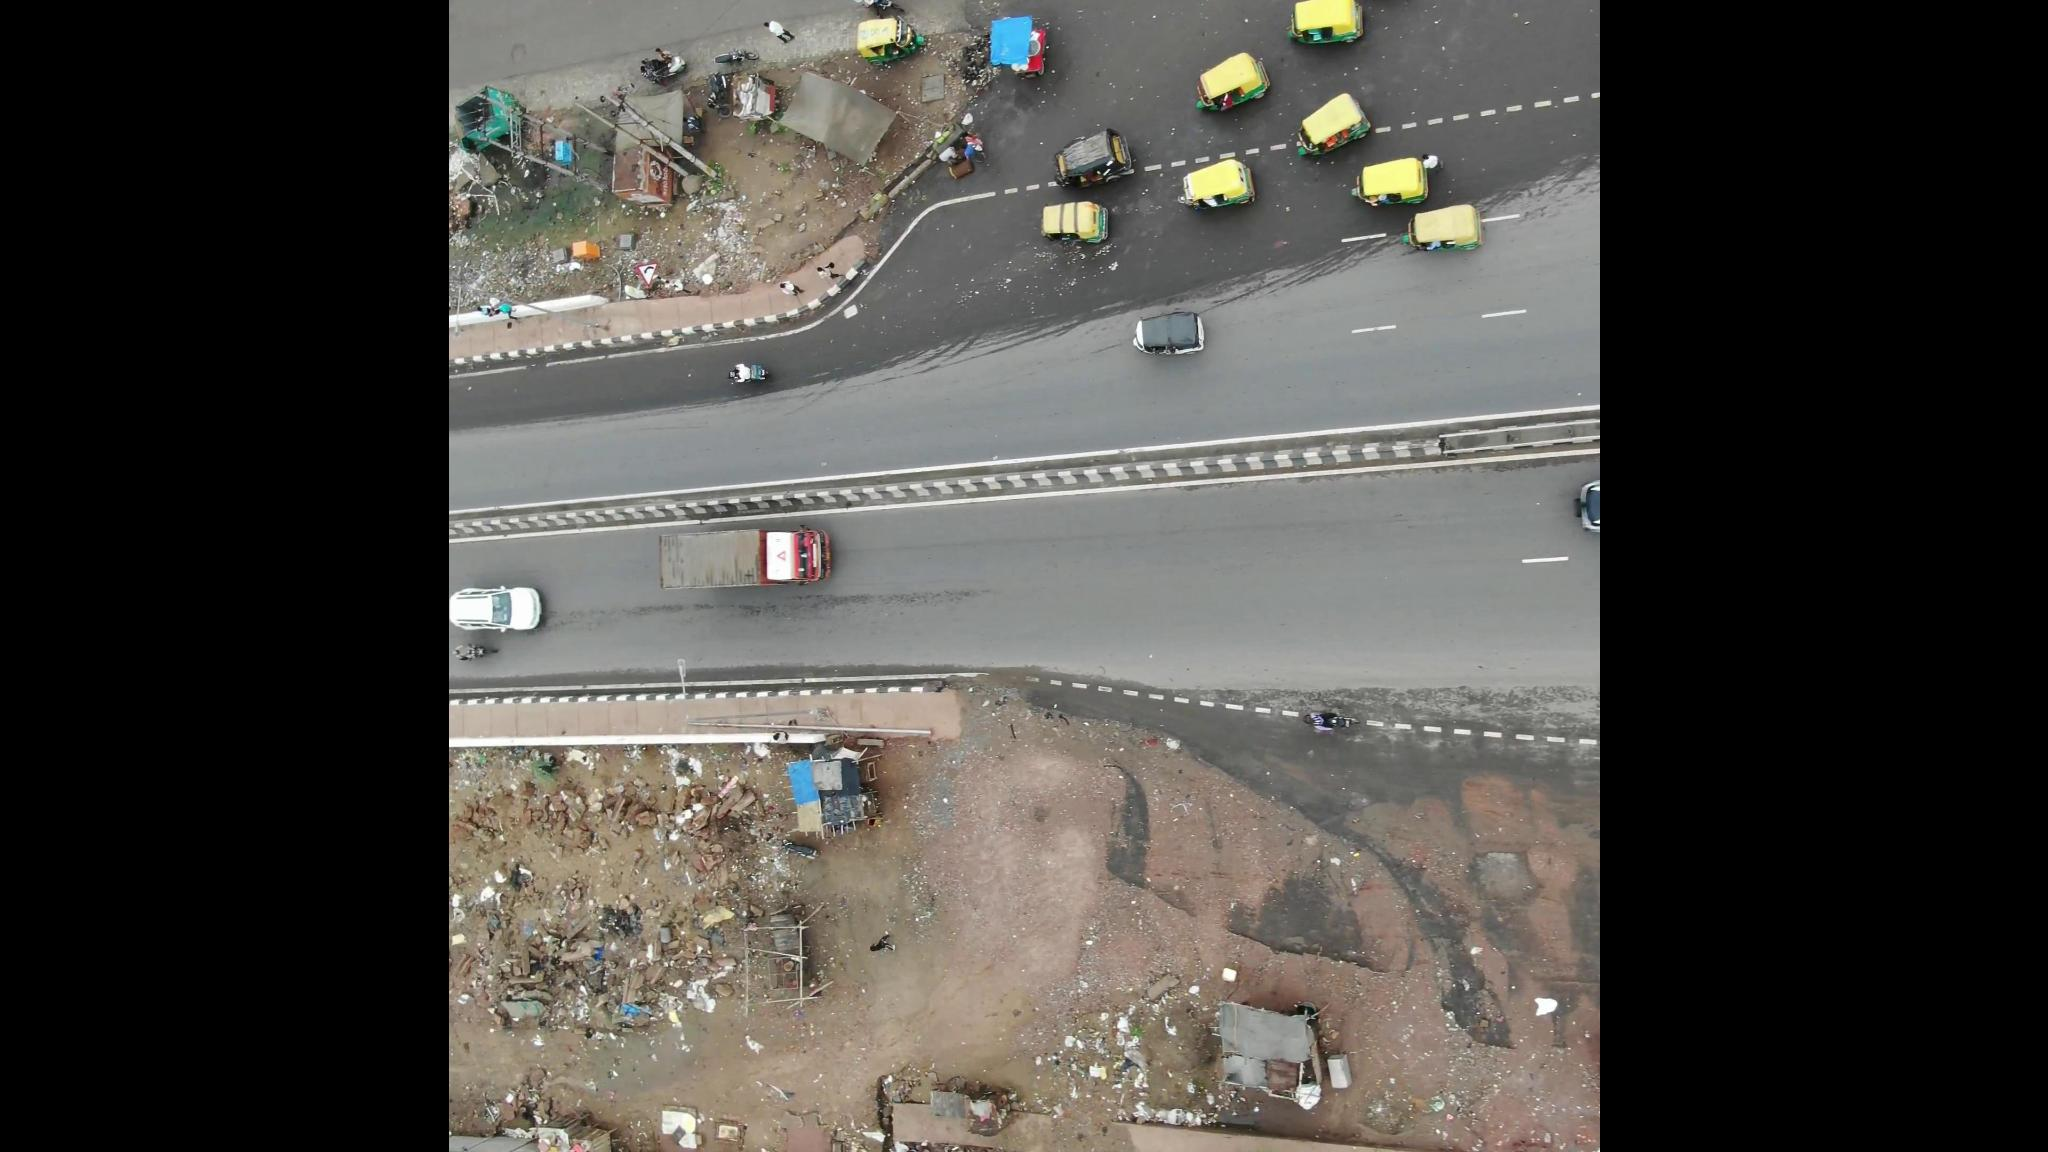Potholes: (492, 25, 542, 69)
Road_side_garbage: (478, 745, 748, 1023)
